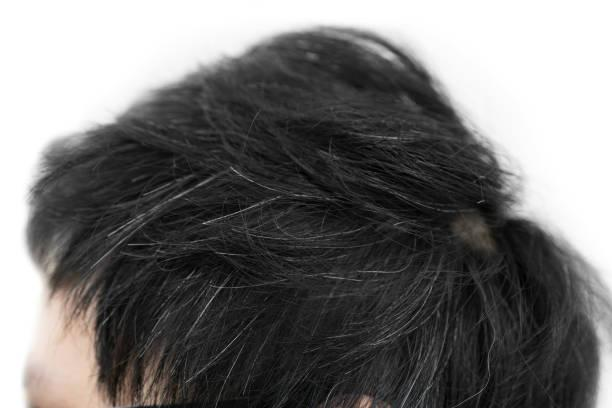dry hair: (369, 301, 458, 381), (476, 281, 509, 408)
grey hair: (225, 162, 330, 212), (195, 196, 292, 223), (352, 125, 431, 147), (398, 194, 479, 214), (206, 279, 294, 296), (266, 229, 378, 242), (354, 269, 413, 279), (135, 185, 176, 196)
low hair density: (443, 206, 498, 254)
